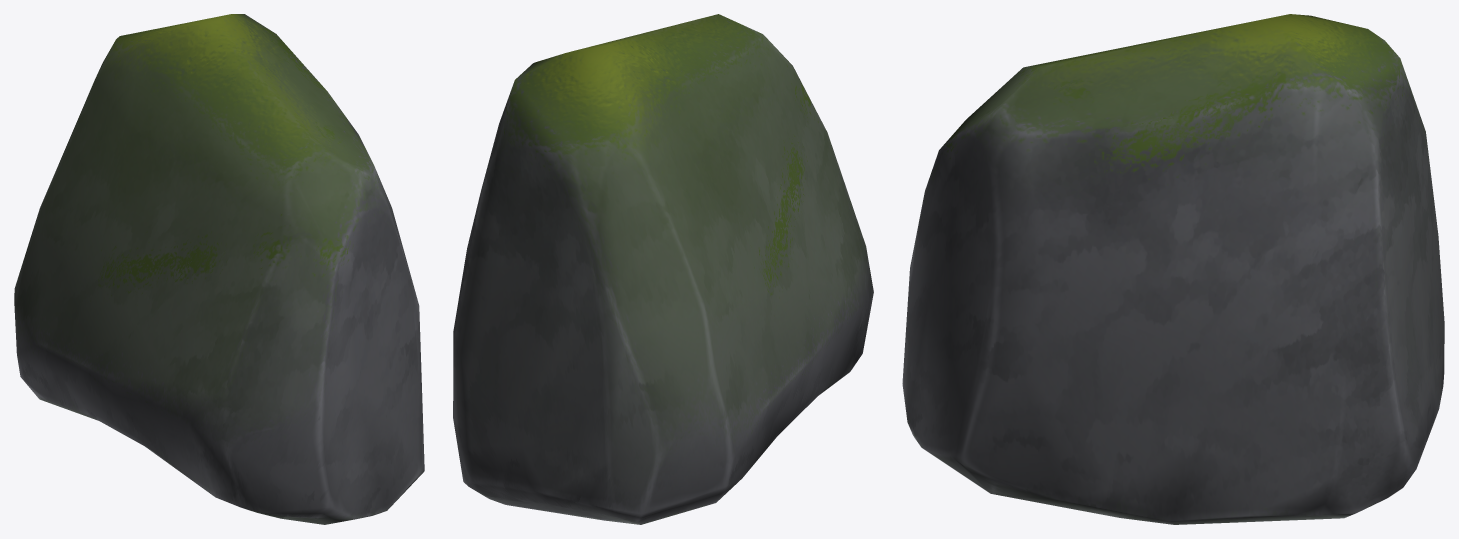
Rendered from Stone5_Moss2.fbx.
3 renders of one model, left to right at view 1: azimuth 30°, elevation 25°; view 2: azimuth 150°, elevation 25°; view 3: azimuth 270°, elevation 25°, orthographic. The views are drawn at different scales.
Visible parts, largest first — view 1: Stone5_Moss2; view 2: Stone5_Moss2; view 3: Stone5_Moss2.
Boxes of the visible parts, <box> form: Stone5_Moss2: <box>14,14,424,524</box>; Stone5_Moss2: <box>453,14,873,524</box>; Stone5_Moss2: <box>902,14,1444,524</box>.
Size of the model in its own units: 132 by 185 by 200.
1 material, 1 textured.
